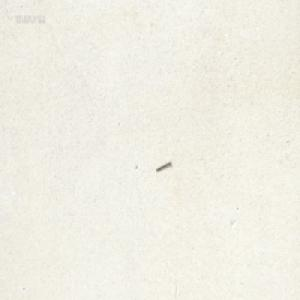Bolt: (155, 157, 171, 169)
